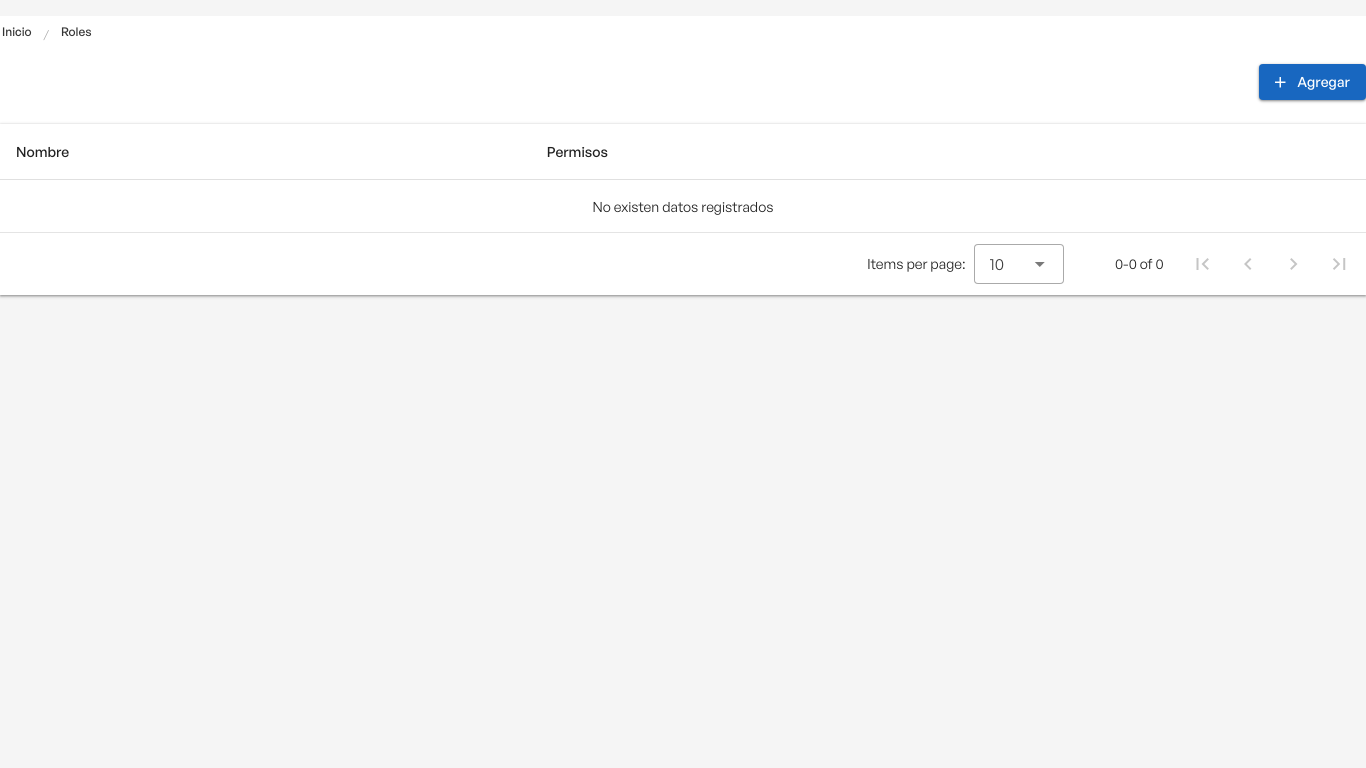
Test: RolesView — loading / error / populated states › opens CreateRoleDialog when "Agregar" is clicked
Click the button "Agregar". click: click(1313, 82)
box: [1259,64,1365,100]
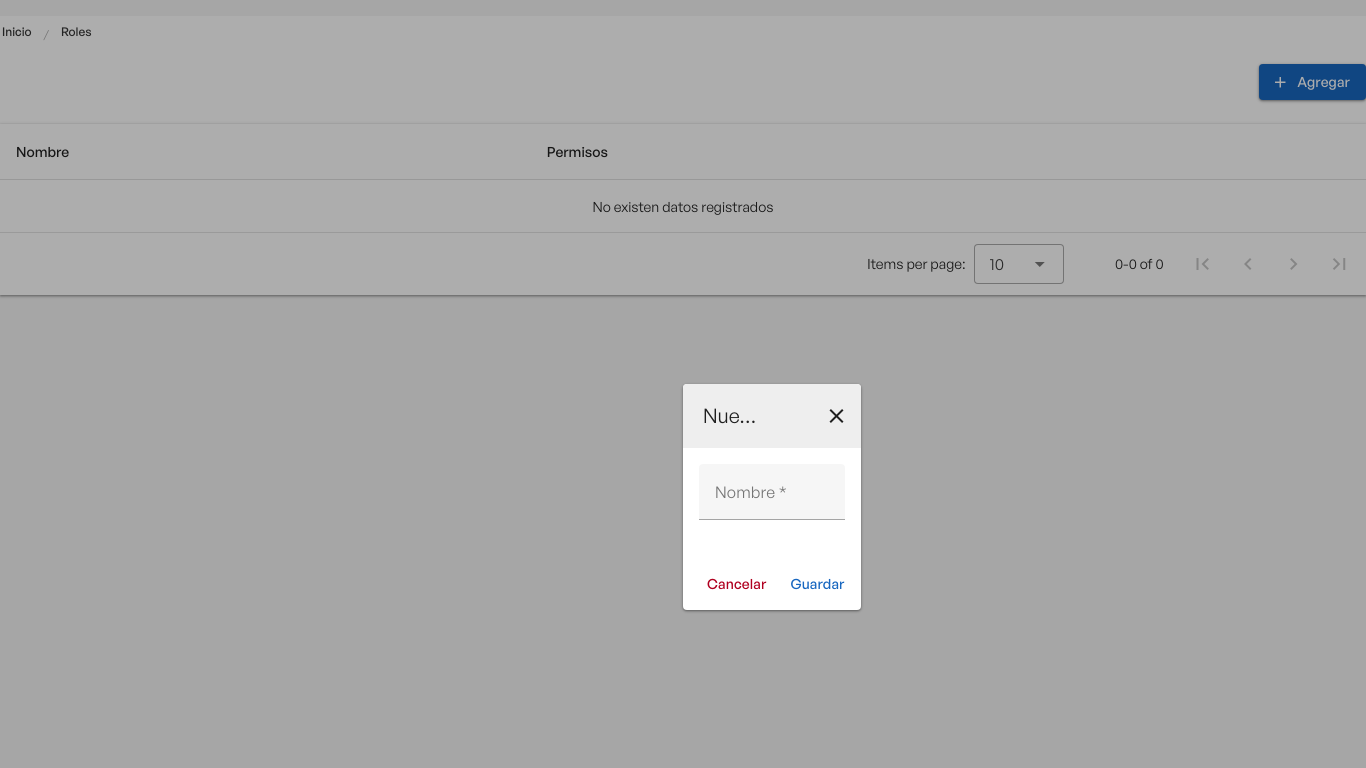
Result: the text "Nuevo rol" is shown at [703,402,758,430]
